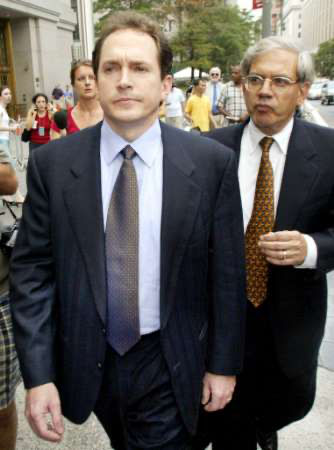Face: (97, 47, 168, 128), (242, 57, 303, 138), (71, 66, 104, 107), (32, 92, 50, 114)
